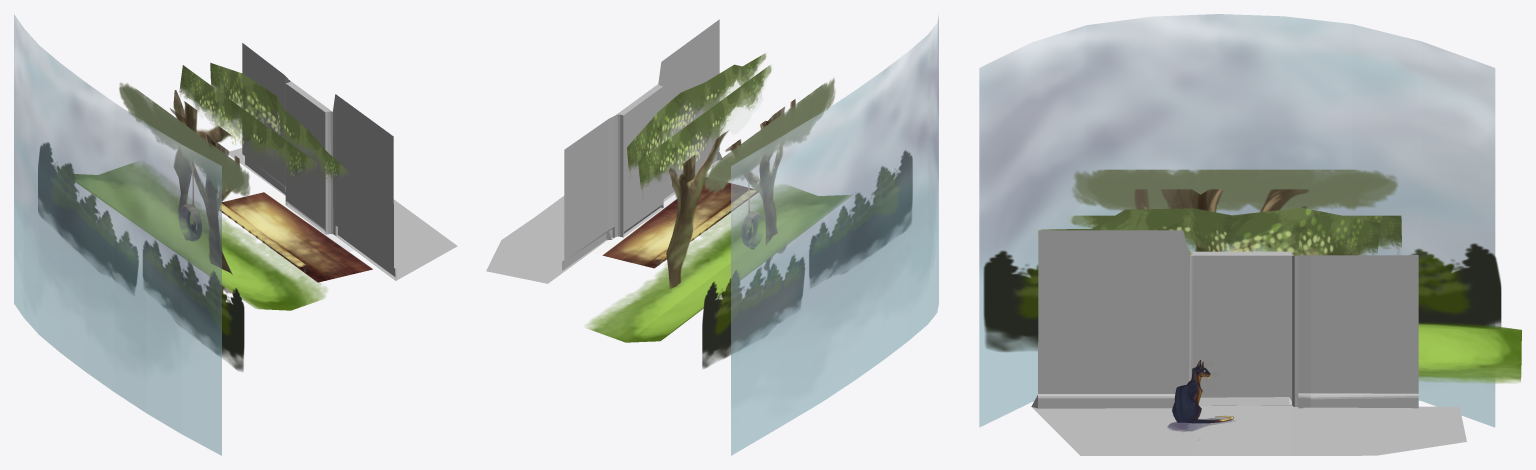
3 renders of one model, left to right at view 1: azimuth 30°, elevation 25°; view 2: azimuth 150°, elevation 25°; view 3: azimuth 270°, elevation 25°, orthographic. The views are drawn at different scales.
Parts seen in each view (by area): view 1: sky_8, house_5, pine trees_6, grass_4, porch_7, tree 2_10, tree_9, tree.001_13, tree trunk_11, tree trunk 2_12; view 2: sky_8, house_5, pine trees_6, grass_4, porch_7, tree 2_10, tree_9, tree.001_13, tree trunk 2_12, tree trunk_11; view 3: sky_8, house_5, tree 2_10, pine trees_6, tree.001_13, grass_4, tree_9, tree trunk_11, cat_2.
Part boxes in pixels (box(x1,y1,x2,y2)): sky_8: box(14, 14, 221, 455); house_5: box(227, 43, 457, 280); pine trees_6: box(38, 142, 244, 371); grass_4: box(74, 162, 327, 310); porch_7: box(219, 192, 372, 282); tree 2_10: box(119, 82, 250, 196); tree_9: box(179, 65, 315, 176); tree.001_13: box(210, 62, 346, 179); tree trunk_11: box(170, 108, 239, 293); tree trunk 2_12: box(173, 90, 231, 213); sky_8: box(731, 15, 938, 455); house_5: box(486, 19, 722, 283); pine trees_6: box(702, 150, 912, 368); grass_4: box(585, 185, 851, 342); porch_7: box(602, 177, 757, 268); tree 2_10: box(704, 78, 835, 194); tree_9: box(638, 65, 771, 196); tree.001_13: box(627, 53, 766, 171); tree trunk 2_12: box(666, 130, 728, 288); tree trunk_11: box(725, 99, 795, 276); sky_8: box(979, 14, 1495, 427); house_5: box(1031, 230, 1466, 455); tree 2_10: box(1072, 169, 1398, 210); pine trees_6: box(983, 243, 1501, 351); tree.001_13: box(1040, 207, 1381, 255); grass_4: box(1418, 322, 1521, 383); tree_9: box(1070, 215, 1401, 255); tree trunk_11: box(1134, 189, 1309, 255); cat_2: box(1172, 359, 1233, 423).
Size of the model in its own units: 11.94 by 11.24 by 14.52.
